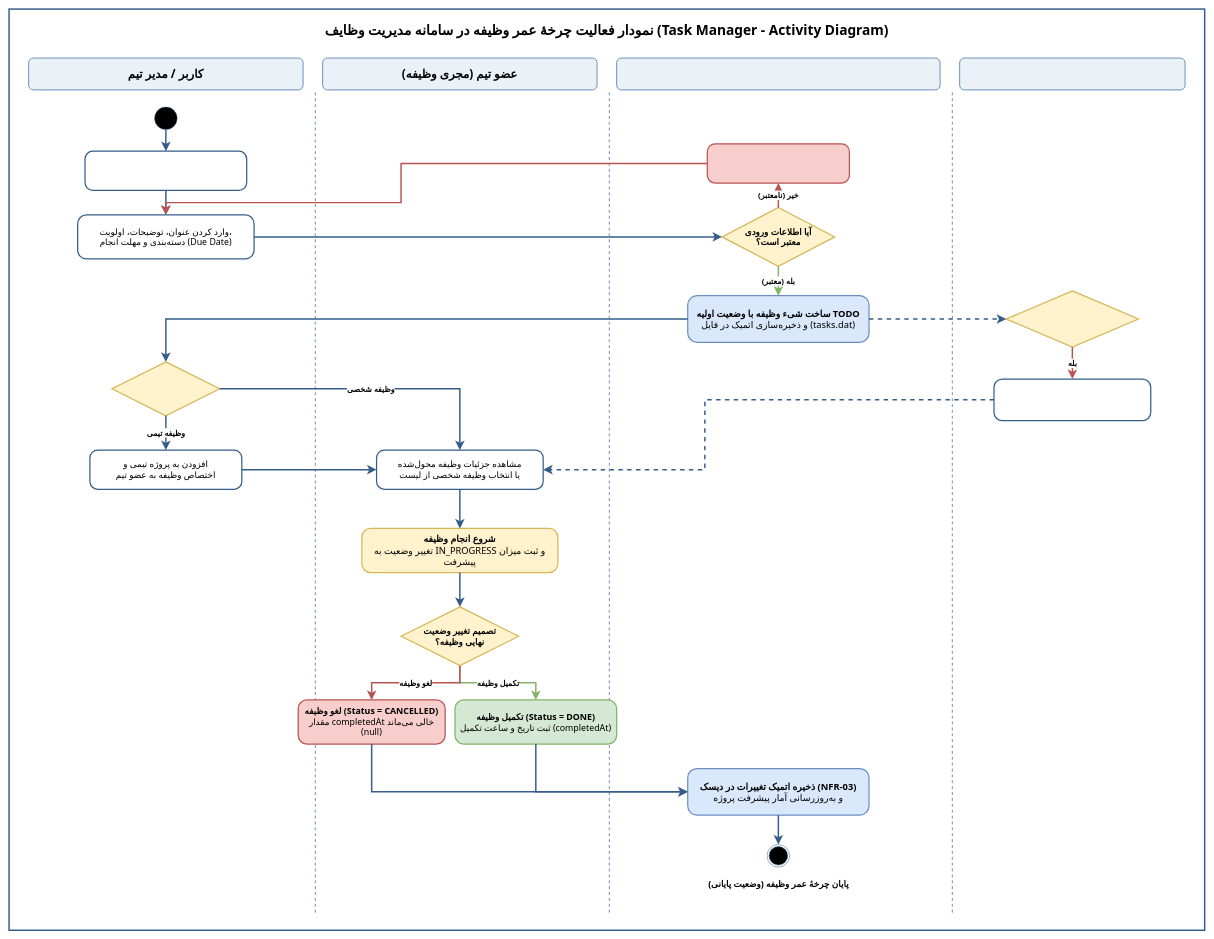
The diagram is 1214 pixels wide and 939 high, and some of its shapes have lost their labels. The shapes that lost their labels are listed below. From the top down, each one's centre as x and y in pixels, then its label:
At (778,73): "سامانه مدیریت وظایف (لایه سرویس و فایل)".
At (1072,73): "سرویس یادآوری و اعلان".
At (165,170): "ورود به سامانه و انتخاب «ایجاد وظیفه»".
At (778,163): "نمایش پیام خطای اعتبارسنجی و درخواست مجدد ورودی".
At (1072,319): "آیا تا سررسید کمتر از ۲۴ ساعت مانده یا عقب‌افتاده؟".
At (165,388): "نوع وظیفه؟ (شخصی یا تیمی)".
At (1072,399): "ارسال اعلان یادآوری سررسید (علامت ! برای وظایف Overdue)".
